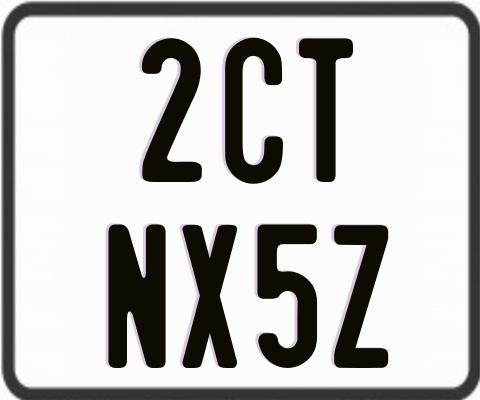2: (142, 38, 204, 185)
5: (255, 224, 318, 369)
C: (223, 36, 287, 183)
N: (106, 224, 170, 369)
T: (299, 38, 357, 188)
X: (179, 223, 236, 367)
Z: (332, 225, 391, 370)
